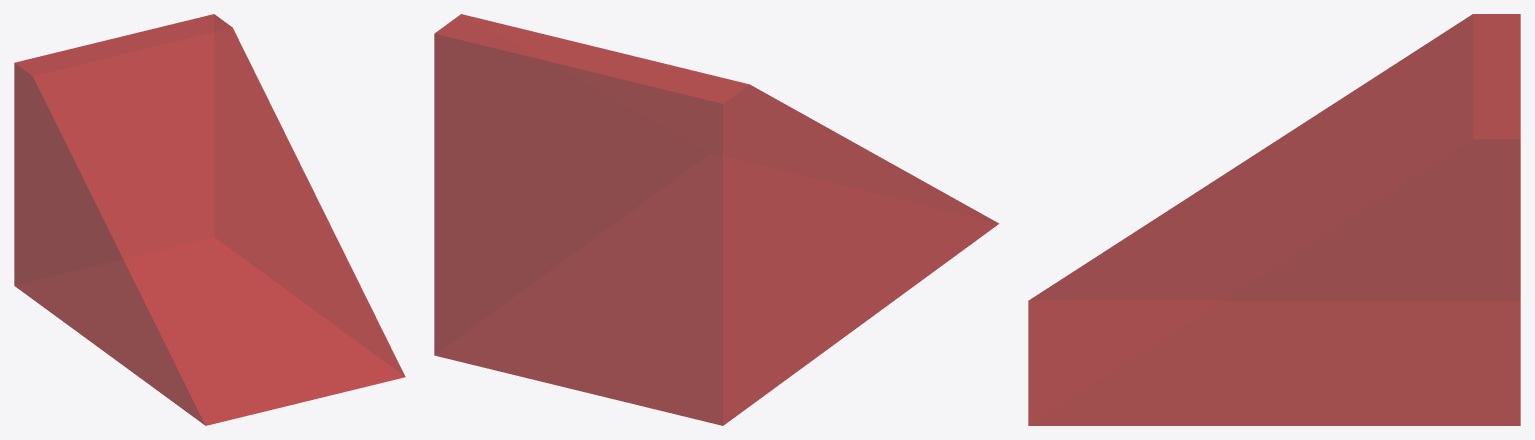
Rendered from SM_Bld_Bath_Stairs_01_Collision.fbx.
The picture shows the model from 3 angles, left to right: view 1: azimuth 30°, elevation 25°; view 2: azimuth 150°, elevation 25°; view 3: azimuth 270°, elevation 25°; orthographic projection. The views are drawn at different scales.
Visible parts, largest first — view 1: SM_Bld_Bath_Stairs_01_Collision; view 2: SM_Bld_Bath_Stairs_01_Collision; view 3: SM_Bld_Bath_Stairs_01_Collision.
Part boxes in pixels (<box>): SM_Bld_Bath_Stairs_01_Collision: <box>14,14,405,425</box>; SM_Bld_Bath_Stairs_01_Collision: <box>434,14,998,425</box>; SM_Bld_Bath_Stairs_01_Collision: <box>1028,14,1520,425</box>.
Size of the model in its own units: 125 by 133 by 207.
